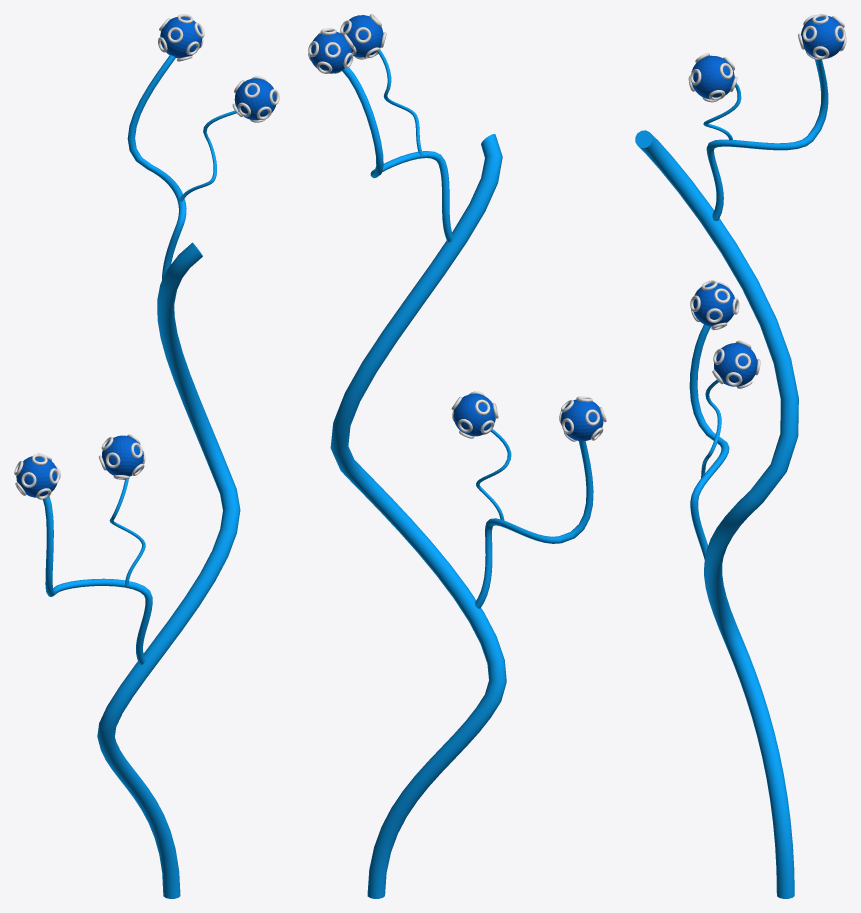
The model's file is Grass2.glb.
3 views of the same model, side by side, from view 1: azimuth 30°, elevation 25°; view 2: azimuth 150°, elevation 25°; view 3: azimuth 270°, elevation 25° (orthographic). The views are drawn at different scales.
Parts seen in each view (by area): view 1: BézierCurve, Sphere.001; view 2: BézierCurve, Sphere.001; view 3: BézierCurve, Sphere.001.
Part boxes in pixels (x1,y1,x2,y2): BézierCurve: (97,242,240,898); Sphere.001: (14,14,279,664); BézierCurve: (330,134,506,898); Sphere.001: (308,14,606,608); BézierCurve: (635,130,798,898); Sphere.001: (688,14,846,559).
Size of the model in its own units: 1.35 by 4.3 by 0.923.
